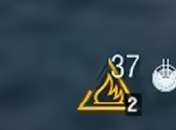2fire: (70, 80, 143, 116)
